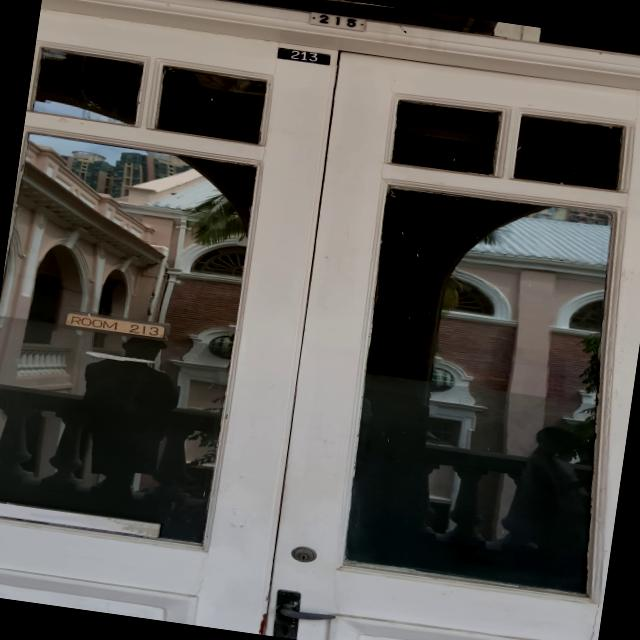room213: (269, 44, 334, 68)
